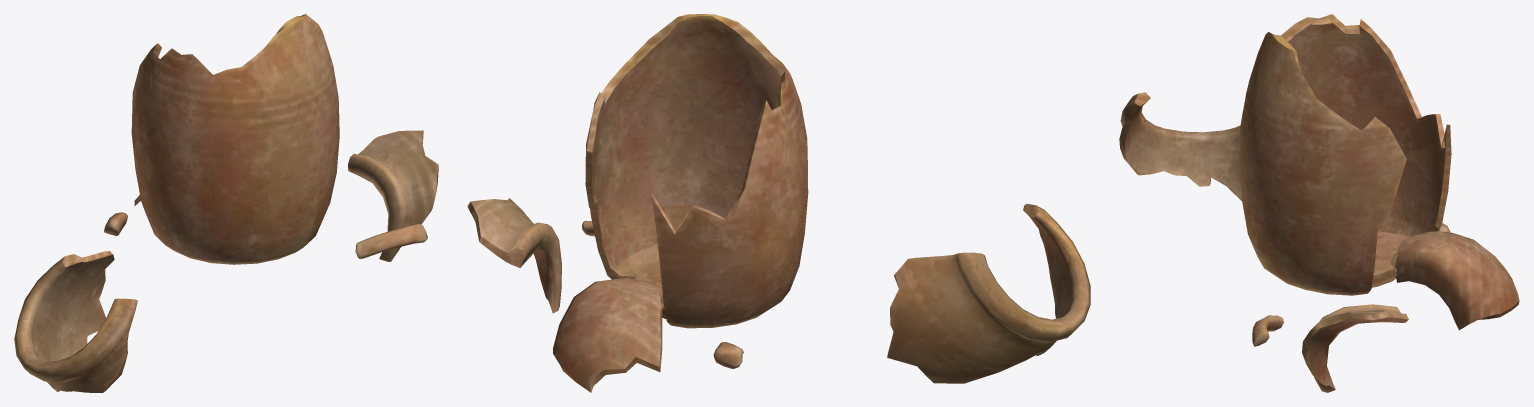
3 renders of one model, left to right at view 1: azimuth 30°, elevation 25°; view 2: azimuth 150°, elevation 25°; view 3: azimuth 270°, elevation 25°, orthographic. The views are drawn at different scales.
Parts seen in each view (by area): view 1: SM_Pot_02_Dmg_LOD0; view 2: SM_Pot_02_Dmg_LOD0; view 3: SM_Pot_02_Dmg_LOD0.
Part boxes in pixels (<box>): SM_Pot_02_Dmg_LOD0: <box>14,14,438,392</box>; SM_Pot_02_Dmg_LOD0: <box>467,14,1090,392</box>; SM_Pot_02_Dmg_LOD0: <box>1119,14,1519,392</box>.
Bounding box in the file's own units: 0.9493 × 0.552 × 0.6646.
Materials: 1 (1 with a texture image).
